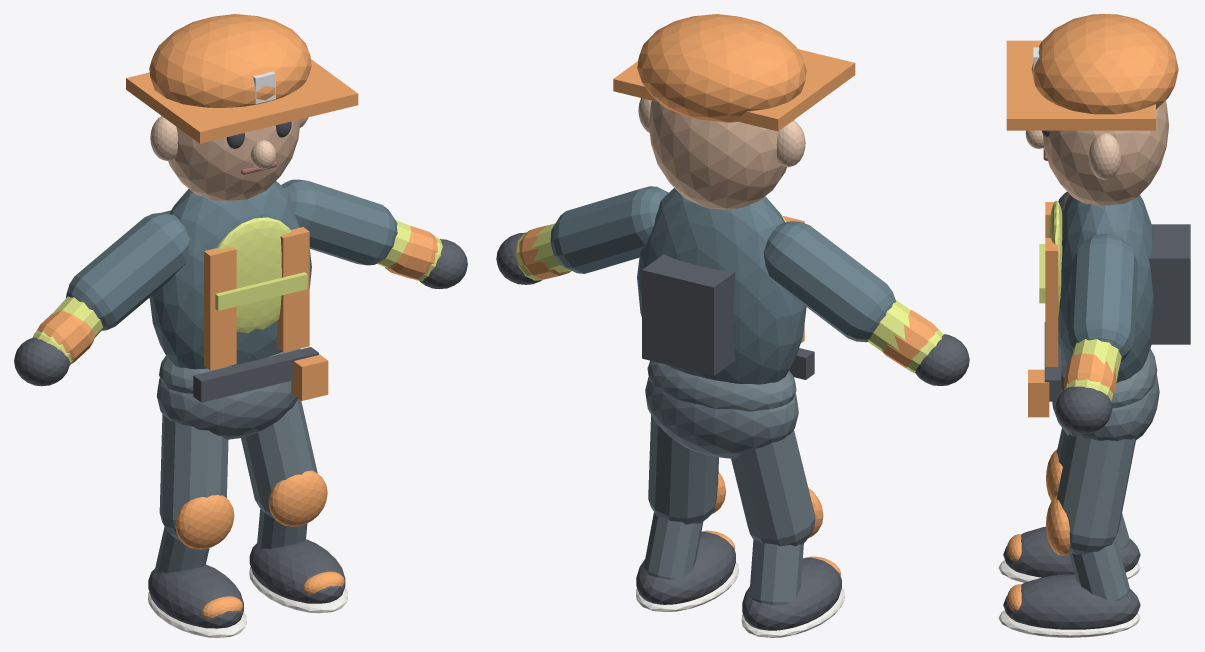
File: 03_builder.glb
3 views of the same model, side by side, from view 1: azimuth 30°, elevation 25°; view 2: azimuth 150°, elevation 25°; view 3: azimuth 270°, elevation 25° (orthographic). The views are drawn at different scales.
Visible parts, largest first — view 1: Hard hat dome, Torso, Left upper arm, Hard hat brim, Right upper arm, Head, Left thigh, Shorts or hip section, Chest panel, Right thigh, Left shoe, Right shoe (+19 smaller); view 2: Torso, Hard hat dome, Head, Back tool pack, Left upper arm, Left thigh, Right upper arm, Shorts or hip section, Right thigh, Waist, Hard hat brim, Left shoe (+12 smaller); view 3: Hard hat dome, Torso, Right upper arm, Right thigh, Head, Hard hat brim, Right shoe, Back tool pack, Left shoe, Right shin, Right glove, Shorts or hip section (+17 smaller).
Boxes of the visible parts, box(x1,y1,x2,y2) form: Hard hat dome: box(149, 14, 311, 107); Torso: box(149, 181, 311, 369); Left upper arm: box(66, 212, 189, 330); Hard hat brim: box(126, 59, 358, 143); Right upper arm: box(281, 179, 397, 265); Head: box(168, 119, 300, 201); Left thigh: box(159, 414, 228, 540); Shorts or hip section: box(156, 378, 297, 439); Chest panel: box(217, 217, 291, 333); Right thigh: box(241, 398, 317, 517); Left shoe: box(148, 564, 243, 628); Right shoe: box(249, 539, 345, 603); Torso: box(637, 188, 806, 384); Hard hat dome: box(637, 14, 806, 122); Head: box(649, 100, 794, 209); Back tool pack: box(642, 254, 735, 375); Left upper arm: box(763, 221, 895, 342); Left thigh: box(731, 430, 815, 546); Right upper arm: box(550, 186, 668, 273); Shorts or hip section: box(645, 377, 798, 458); Right thigh: box(648, 415, 718, 524); Waist: box(647, 360, 796, 411); Hard hat brim: box(613, 49, 855, 131); Left shoe: box(742, 557, 841, 630); Hard hat dome: box(1031, 14, 1178, 114); Torso: box(1058, 195, 1154, 383); Right upper arm: box(1068, 234, 1137, 361); Right thigh: box(1056, 434, 1135, 554); Head: box(1043, 101, 1169, 205); Hard hat brim: box(1006, 40, 1155, 130); Right shoe: box(1003, 574, 1140, 629); Back tool pack: box(1148, 224, 1190, 344); Left shoe: box(1003, 526, 1140, 577); Right shin: box(1069, 537, 1129, 600); Right glove: box(1055, 386, 1112, 433); Shorts or hip section: box(1052, 374, 1159, 440).
Size of the model in its own units: 2.2 by 2.7 by 0.81.
